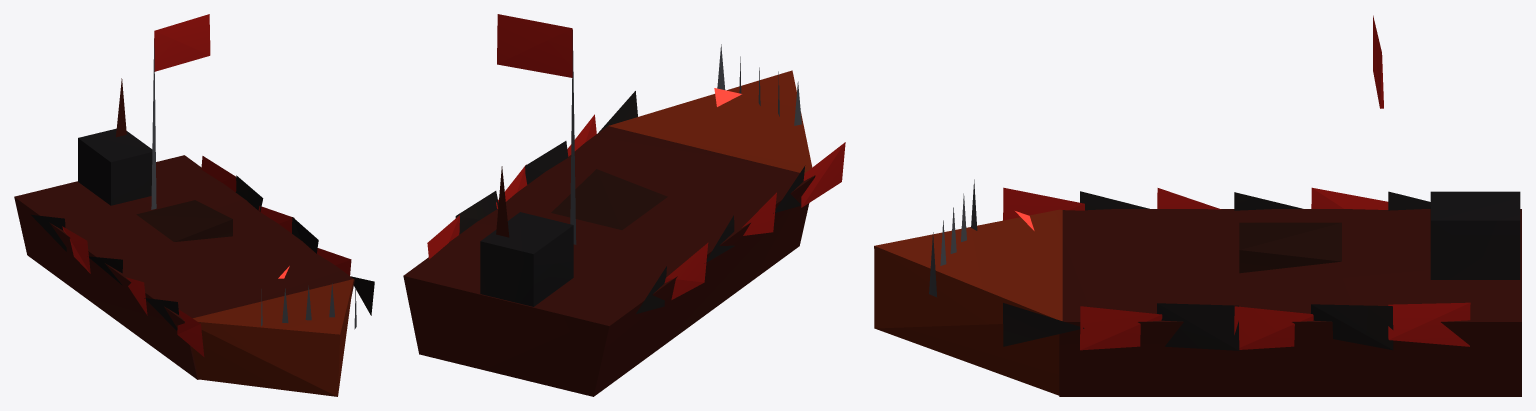
Rendered from tb_raider_skiff.three-web-toon.lod25.glb.
3 views of the same model, side by side, from view 1: azimuth 30°, elevation 25°; view 2: azimuth 150°, elevation 25°; view 3: azimuth 270°, elevation 25° (orthographic). The views are drawn at different scales.
Parts seen in each view (by area): view 1: raider_body_lod; view 2: raider_body_lod; view 3: raider_body_lod.
Boxes of the visible parts, bbox=[...] form: raider_body_lod: bbox=[14, 14, 374, 396]; raider_body_lod: bbox=[403, 14, 845, 396]; raider_body_lod: bbox=[874, 15, 1521, 396].
Size of the model in its own units: 2.73 by 3.6 by 6.3.
